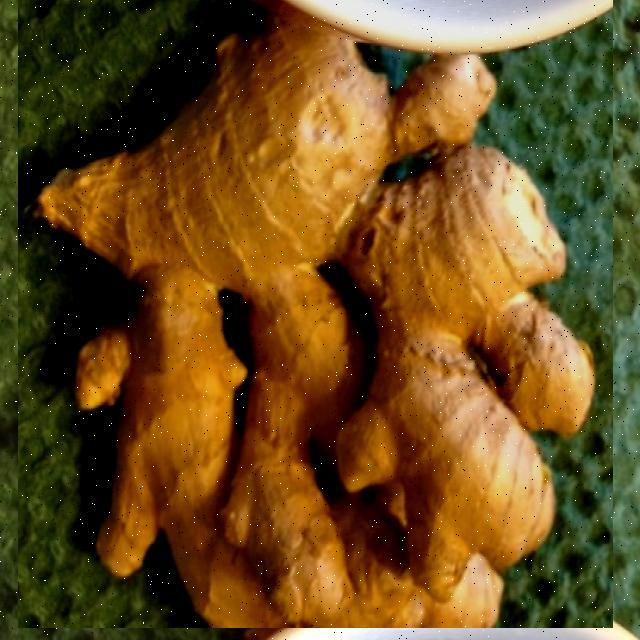ginger: (18, 0, 613, 628)
